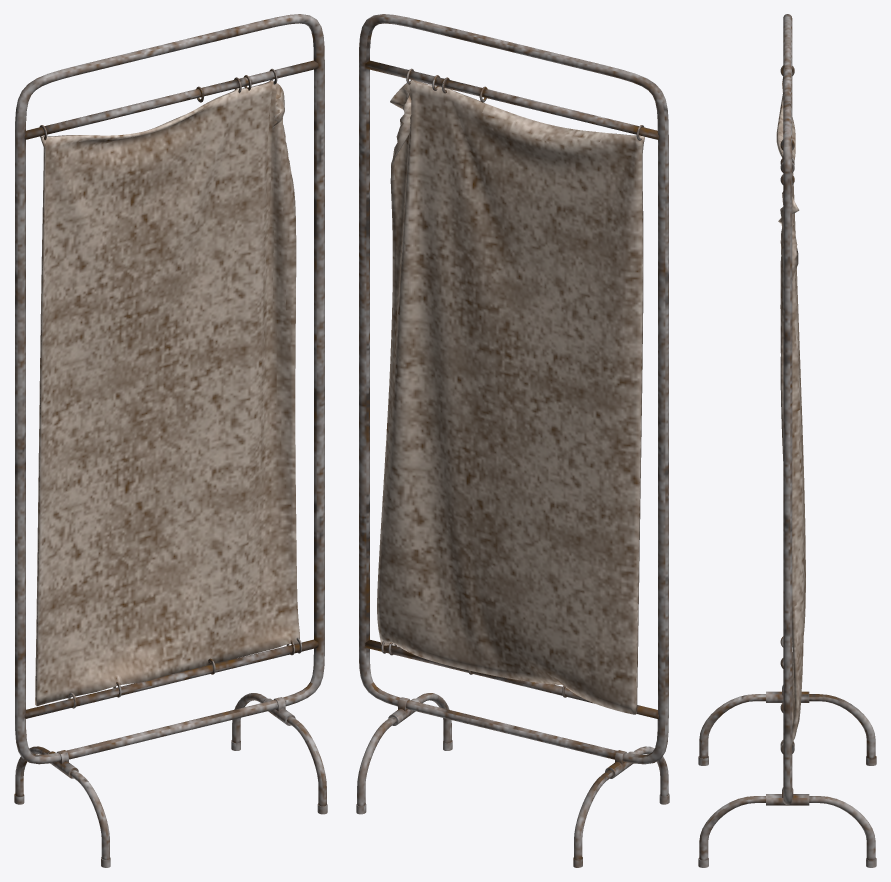
File: zaslona.glb
3 renders of one model, left to right at view 1: azimuth 30°, elevation 25°; view 2: azimuth 150°, elevation 25°; view 3: azimuth 270°, elevation 25°, orthographic. The views are drawn at different scales.
Visible parts, largest first — view 1: Cube.122; view 2: Cube.122; view 3: Cube.122.
Part boxes in pixels (box(x1,y1,x2,y2)): Cube.122: box(14, 14, 327, 867); Cube.122: box(356, 14, 669, 867); Cube.122: box(698, 14, 876, 867).
Size of the model in its own units: 0.7619 by 1.8 by 0.3926.
Materials: 1 (1 with a texture image).
